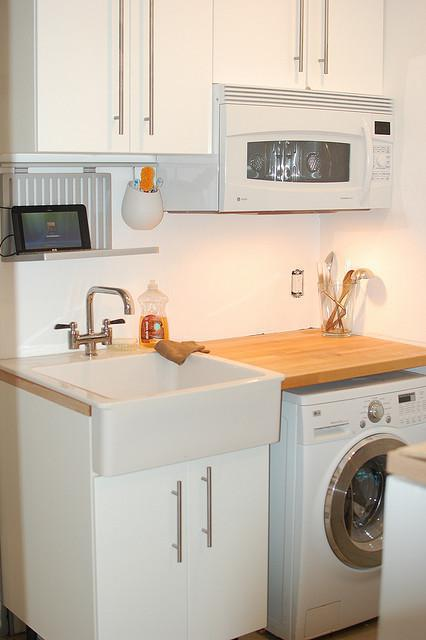Lavaplatos: (20, 281, 283, 459)
